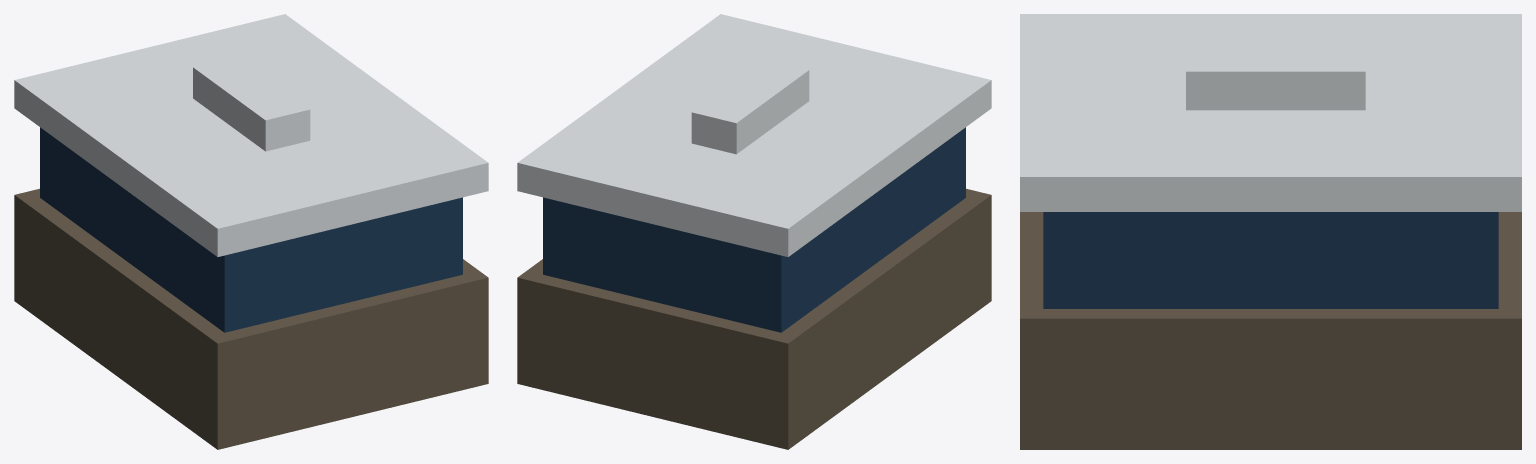
The model's file is far.fbx.
3 renders of one model, left to right at view 1: azimuth 30°, elevation 25°; view 2: azimuth 150°, elevation 25°; view 3: azimuth 270°, elevation 25°, orthographic. The views are drawn at different scales.
Parts seen in each view (by area): view 1: a2010/0/far; view 2: a2010/0/far; view 3: a2010/0/far.
Part boxes in pixels (x1,y1,x2,y2): a2010/0/far: (14, 14, 488, 449); a2010/0/far: (517, 14, 991, 449); a2010/0/far: (1020, 14, 1521, 449).
Bounding box in the file's own units: 20 × 17.8 × 26.
